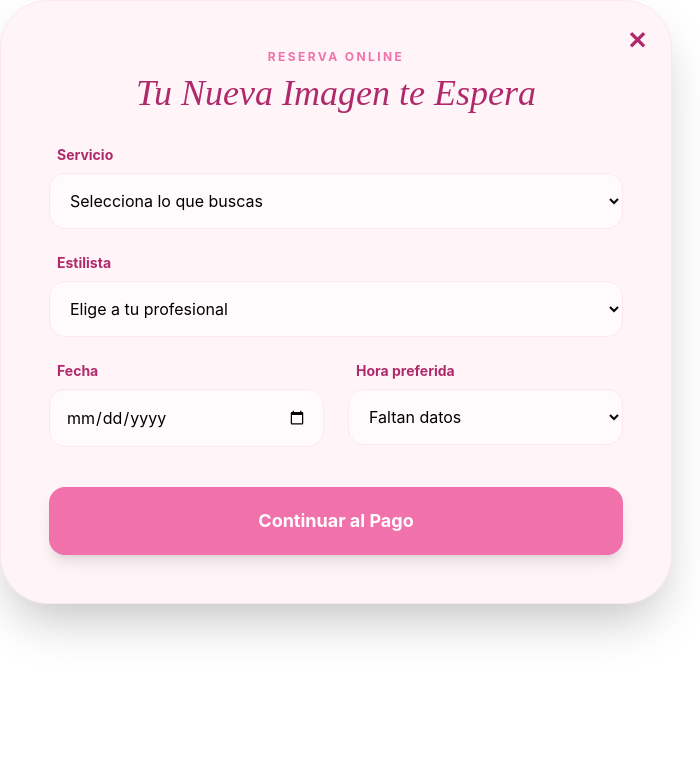
Test: Pruebas Funcionales - Formulario de Reservas › CP-03: Debe permitir la selección de detalles y avanzar al modal de pago (Happy Path)
This screenshot has width=700, height=782.
Llenamos los datos del formulario (Paso 1)
Step 1. Select "Corte Hombre - $10000" in the dropdown named "servicioId" below "Servicio" → [336, 201], box top-left (49, 173), bottom-right (623, 229)
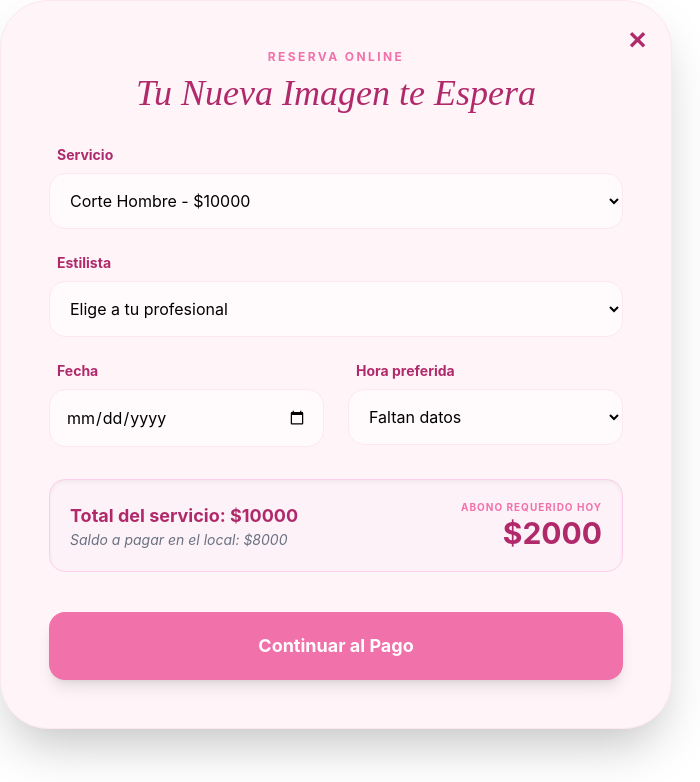
Step 2. Select "Eugenio Parada" in the dropdown named "empleadoId" below "Estilista" → [336, 309], box top-left (49, 281), bottom-right (623, 337)
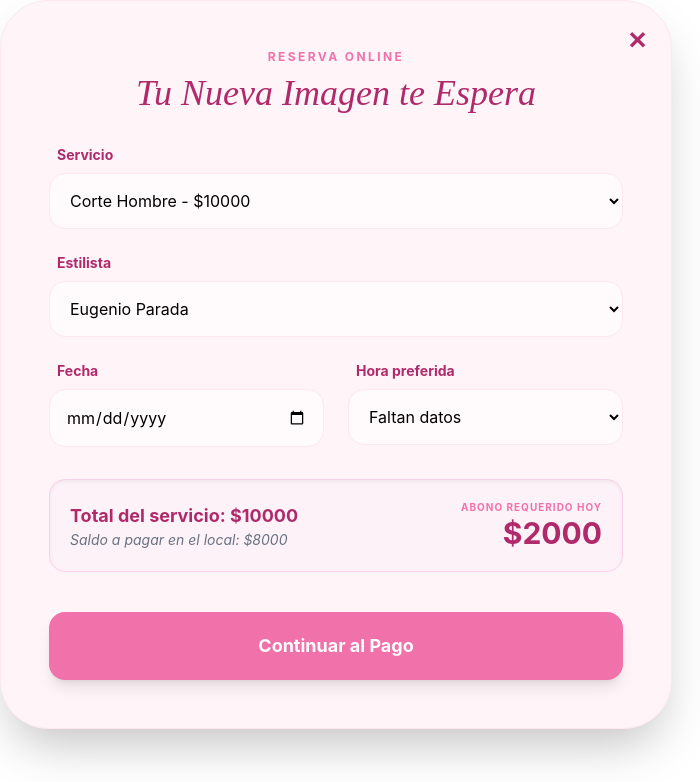
Step 3. Type "2026-06-19" into the date field → [186, 418], box top-left (49, 389), bottom-right (324, 447)
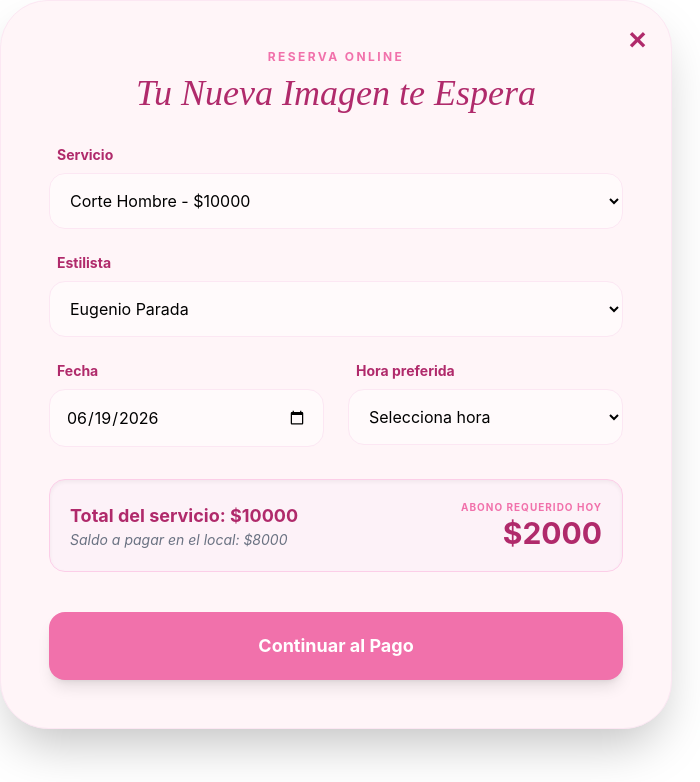
Step 4. Select "11:00" in the dropdown named "hora" below "Hora preferida" → [486, 417], box top-left (348, 389), bottom-right (623, 445)
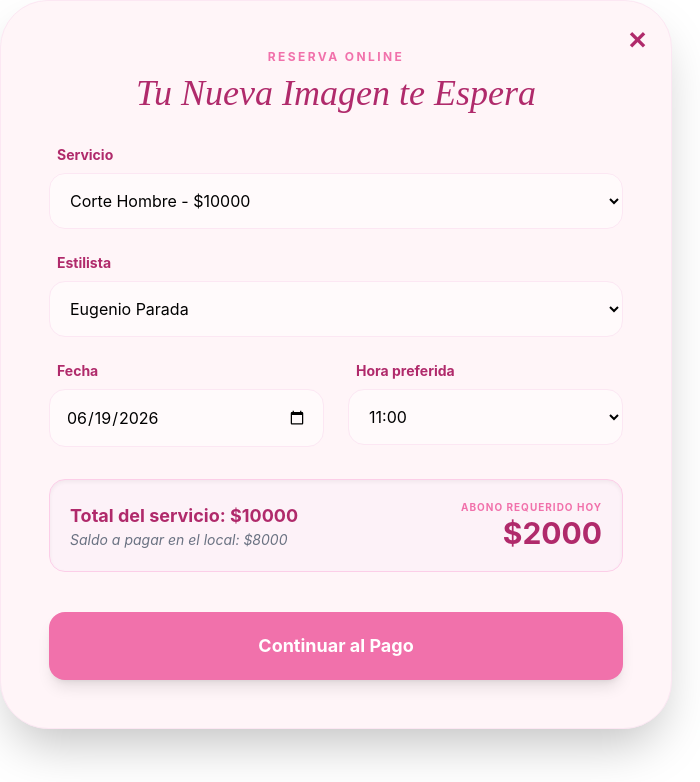
Step 5. Submit the form named "Continuar al Pago", box top-left (49, 145), bottom-right (623, 680)
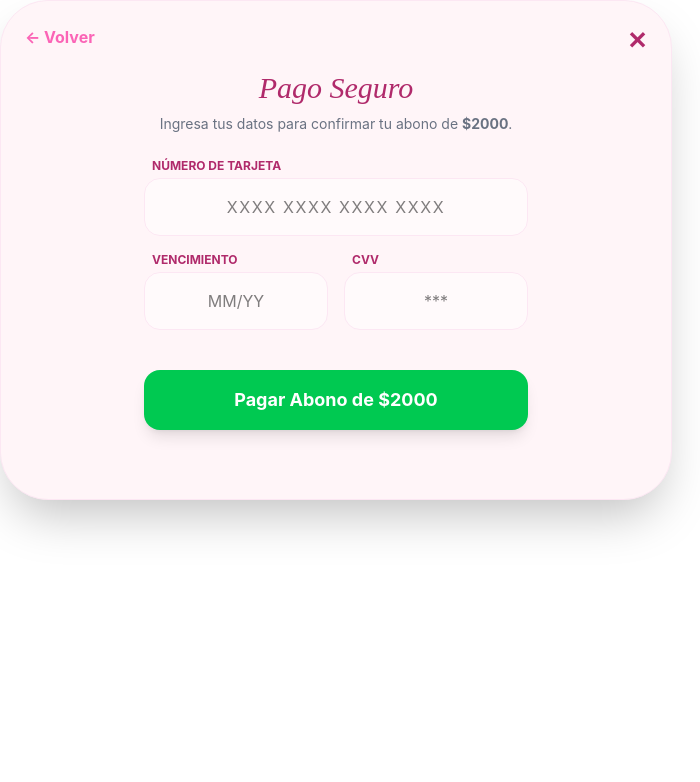
Expected: the heading "Pago Seguro" is shown, top-left (259, 71), bottom-right (413, 104)
